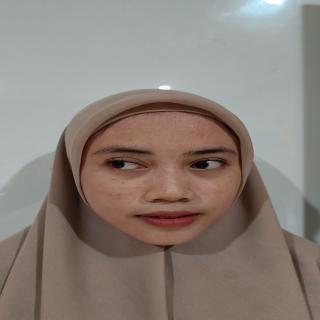Takut: (76, 107, 253, 254)
